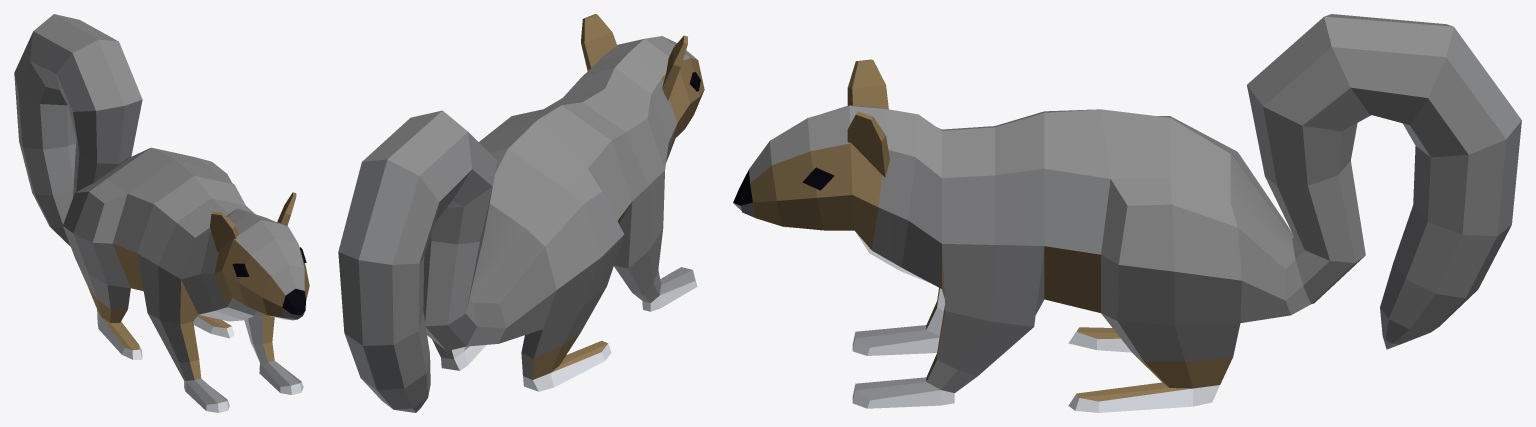
Rendered from caxos24uWC9.glb.
3 renders of one model, left to right at view 1: azimuth 30°, elevation 25°; view 2: azimuth 150°, elevation 25°; view 3: azimuth 270°, elevation 25°, orthographic. The views are drawn at different scales.
Parts seen in each view (by area): view 1: Geo_Squirrel; view 2: Geo_Squirrel; view 3: Geo_Squirrel.
Boxes of the visible parts, x1=… form: Geo_Squirrel: x1=14, y1=14, x2=309, y2=412; Geo_Squirrel: x1=338, y1=14, x2=704, y2=412; Geo_Squirrel: x1=733, y1=14, x2=1521, y2=412.
Bounding box in the file's own units: 0.6517 × 0.9999 × 2.
Materials: 1 (1 with a texture image).
